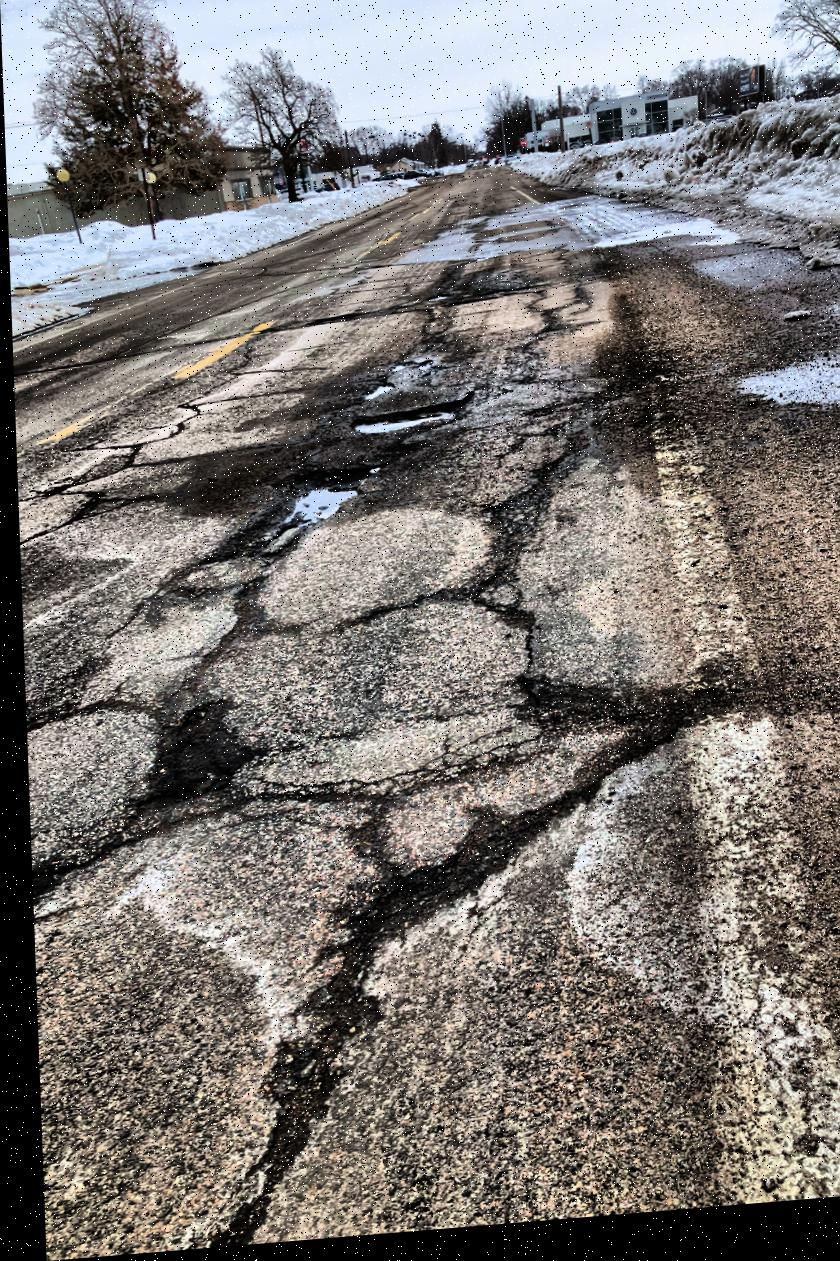pothole: (313, 832, 532, 952), (127, 691, 258, 831), (244, 459, 378, 545), (336, 376, 478, 449)
